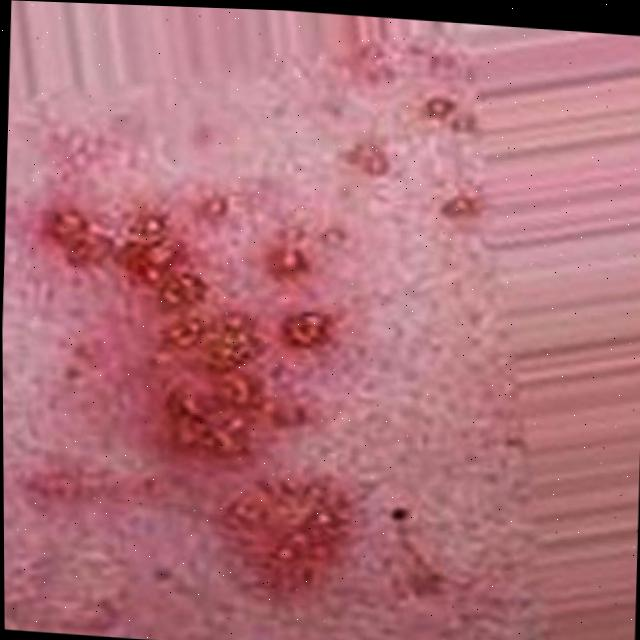Shingles: (49, 200, 344, 440), (236, 471, 335, 601), (365, 143, 386, 175), (440, 192, 469, 214)
